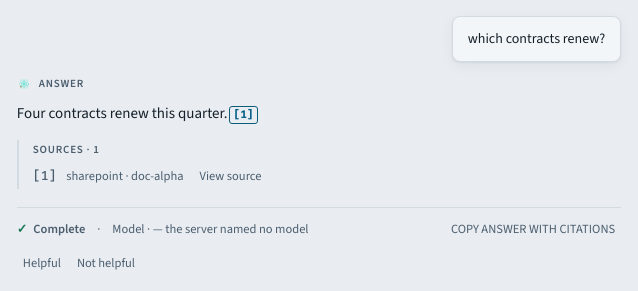
Scenario: signals reach the intake exactly once › records feedback once, whatever a same-tick second click does
The width and height of the screenshot is (638, 291).
Click the button "Helpful" at (42, 263), box [17,252,67,274]
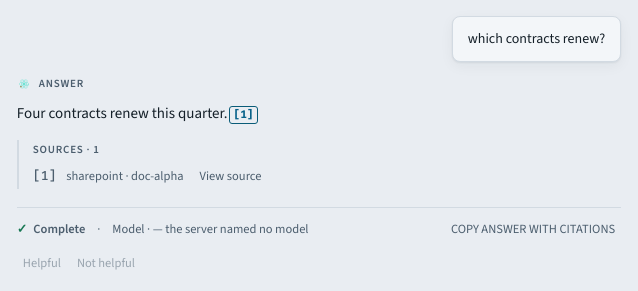
Click the button "Not helpful" at (106, 263), box [71,252,141,274]
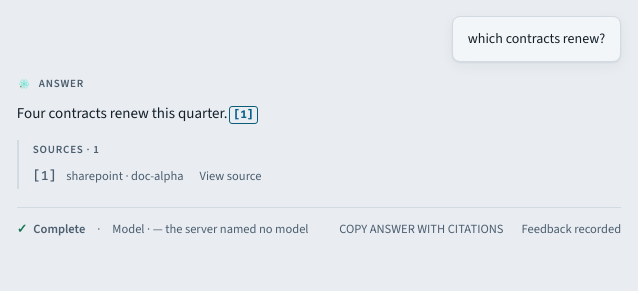
expect the text "Feedback recorded" is shown: met, box [522,220,621,238]
